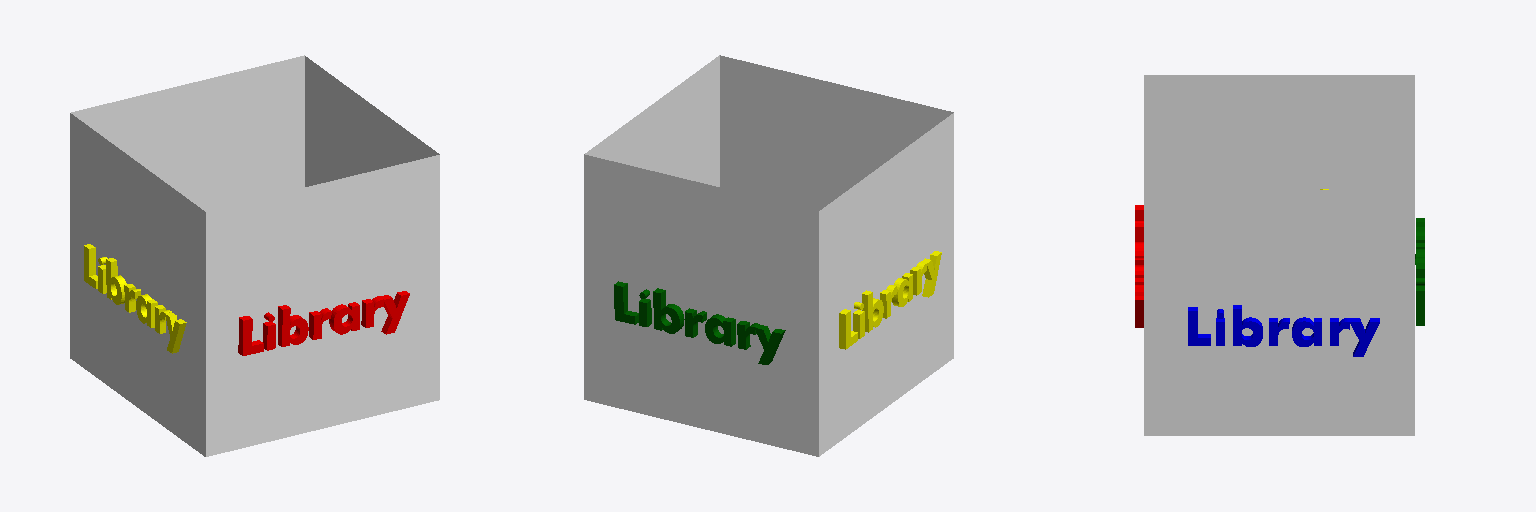
The model's file is library_pointer.obj.
3 renders of one model, left to right at view 1: azimuth 30°, elevation 25°; view 2: azimuth 150°, elevation 25°; view 3: azimuth 270°, elevation 25°, orthographic.
Size of the model in its own units: 3 by 2.82 by 3.02.